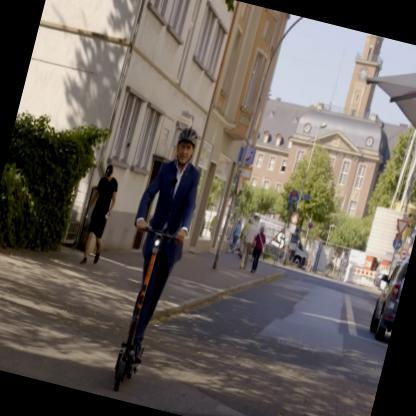helmet: (172, 124, 202, 168)
human: (134, 125, 202, 341)
kickboard: (112, 340, 147, 391)
